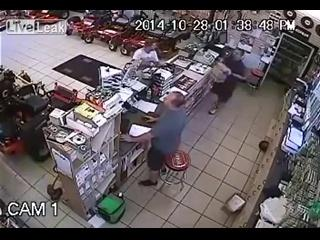Normal: (139, 91, 188, 186), (207, 46, 249, 115)
